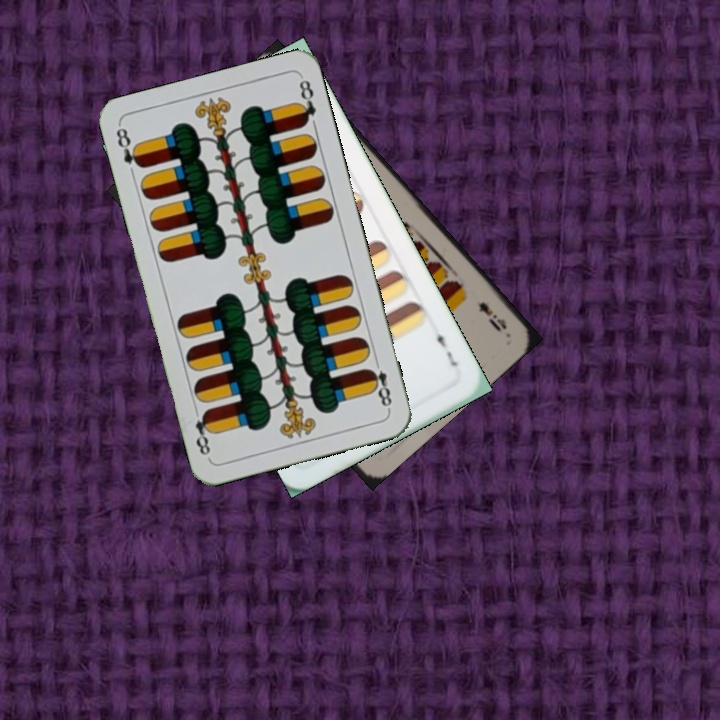E7: (432, 323, 460, 369)
E8: (364, 354, 395, 412), (111, 123, 146, 171)
E9: (474, 298, 510, 334)
